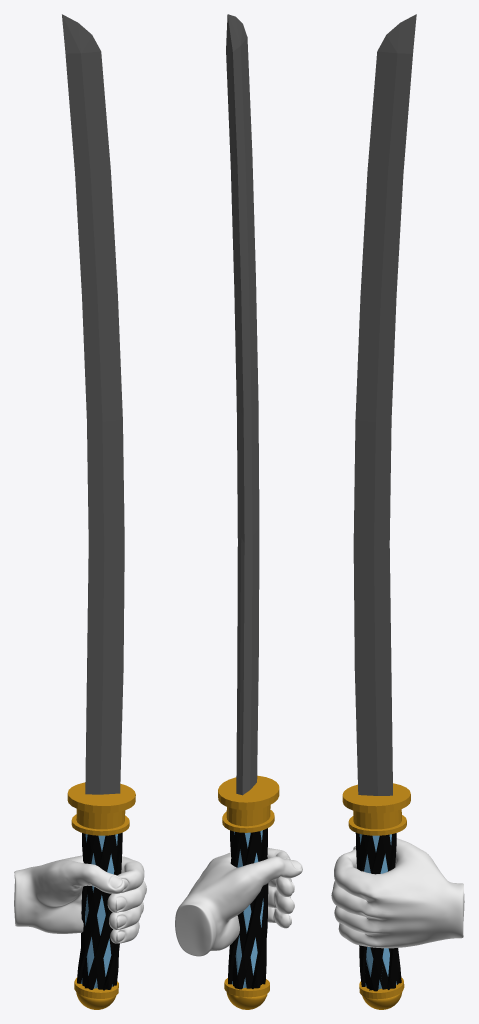
Rendered from левый кулак с катаной малыш2.fbx.
3 views of the same model, side by side, from view 1: azimuth 90°, elevation 25°; view 2: azimuth 150°, elevation 25°; view 3: azimuth 270°, elevation 25° (orthographic).
Visible parts, largest first — view 1: левая рука; view 2: левая рука; view 3: левая рука.
Part boxes in pixels (box(x1,y1,x2,y2)): левая рука: box(14, 14, 146, 1009); левая рука: box(175, 14, 302, 1009); левая рука: box(331, 14, 464, 1009).
Bounding box in the file's own units: 16.58 × 185 × 22.41.
